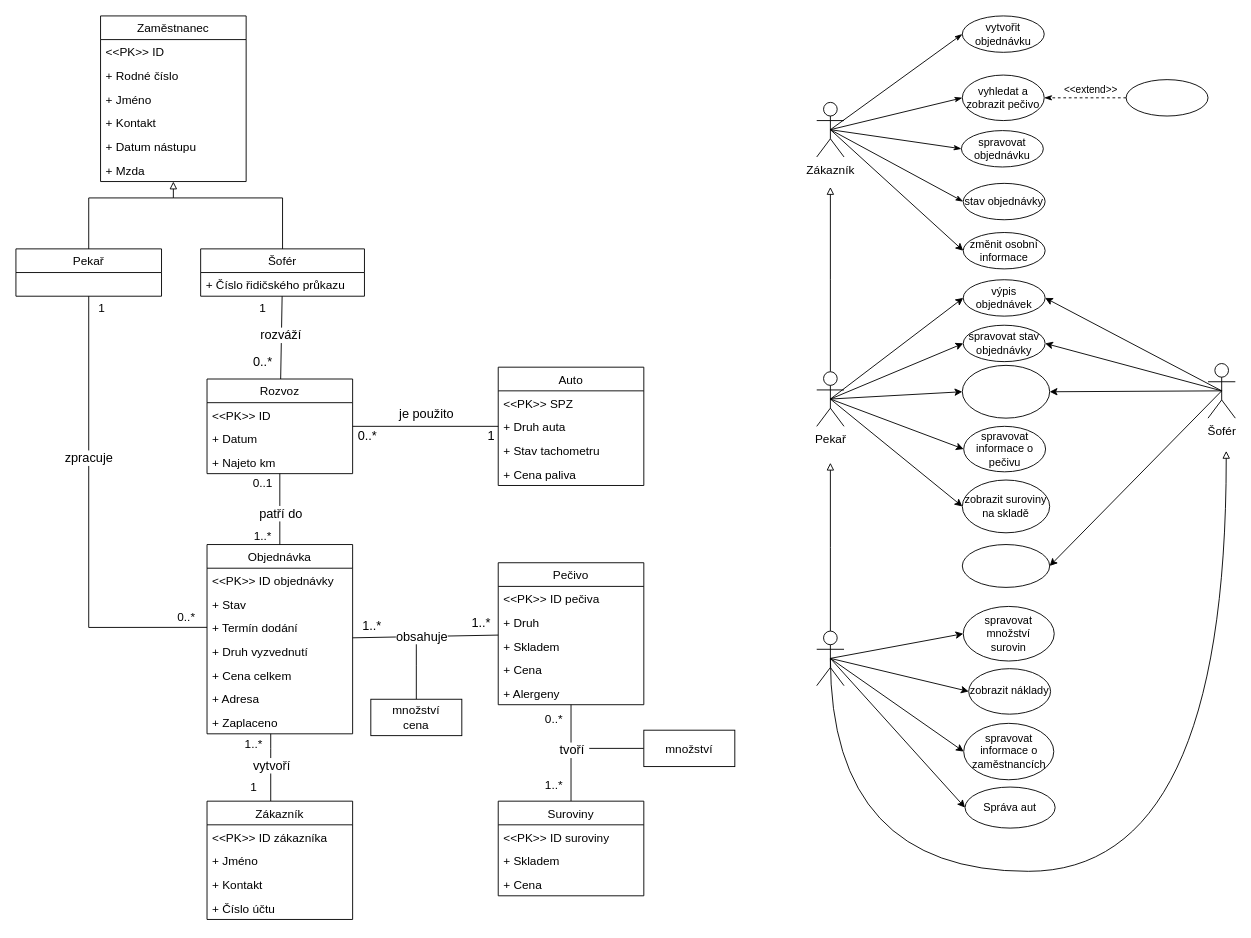
This 1251x938 diagram has some shape labels left out. The shapes that lost their labels are listed below. From the top down, each one's centre as x and y in pixels, then its label:
At pixel 1166 97: "zjistit složení".
At pixel 1005 391: "spravovat osobní informace".
At pixel 1005 565: "výpis rozvozů".
At pixel 830 658: "Ředitel".
